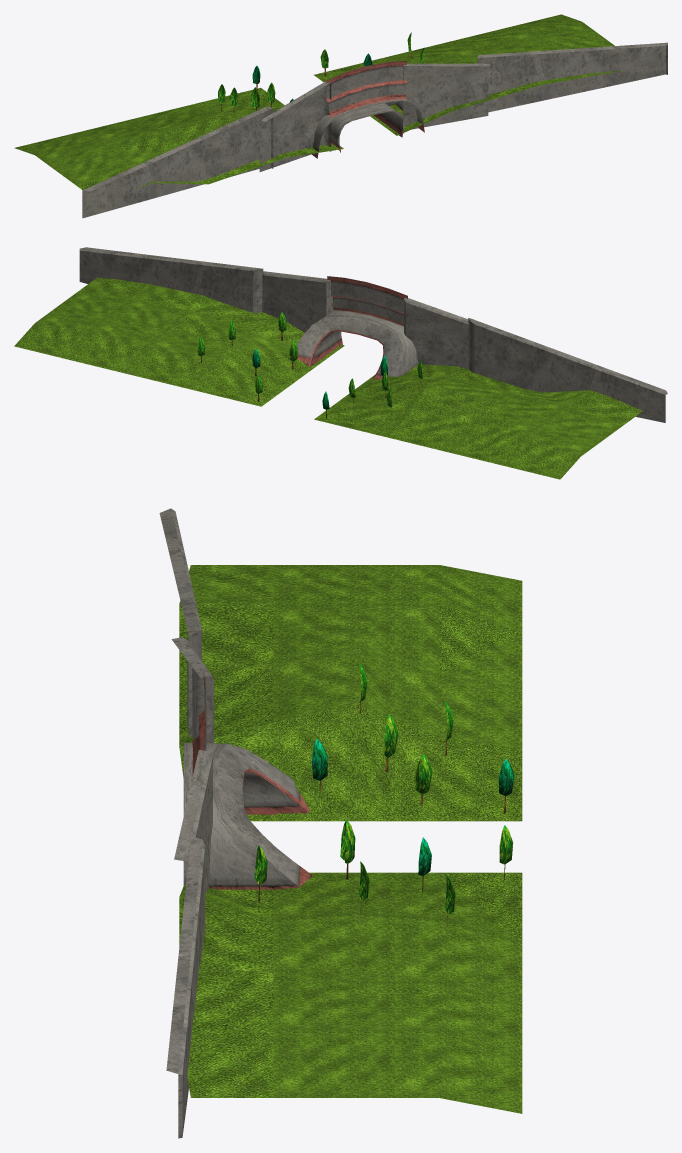
Rendered from ny_tunnel_in.fbx.
3 renders of one model, top to bottom at view 1: azimuth 30°, elevation 25°; view 2: azimuth 150°, elevation 25°; view 3: azimuth 270°, elevation 25°, orthographic. The views are drawn at different scales.
Parts seen in each view (by area): view 1: ny_tunnel_in_far, ny_tunnel_in, tree_far, tree_near; view 2: ny_tunnel_in_far, ny_tunnel_in, tree_near, tree_far; view 3: ny_tunnel_in_far, ny_tunnel_in, tree_near, tree_far.
Boxes of the visible parts, x1,y1,x2,y2 form: ny_tunnel_in_far: (14,14,667,218); ny_tunnel_in: (188,57,490,171); tree_far: (218,32,423,112); tree_near: (252,49,372,107); ny_tunnel_in_far: (14,247,667,479); ny_tunnel_in: (188,271,468,437); tree_near: (252,340,387,418); tree_far: (197,312,422,414); ny_tunnel_in_far: (159,508,522,1138); ny_tunnel_in: (171,637,522,944); tree_near: (311,739,514,892); tree_far: (254,662,455,926).
Bounding box in the file's own units: 20228 × 2491 × 5420.
